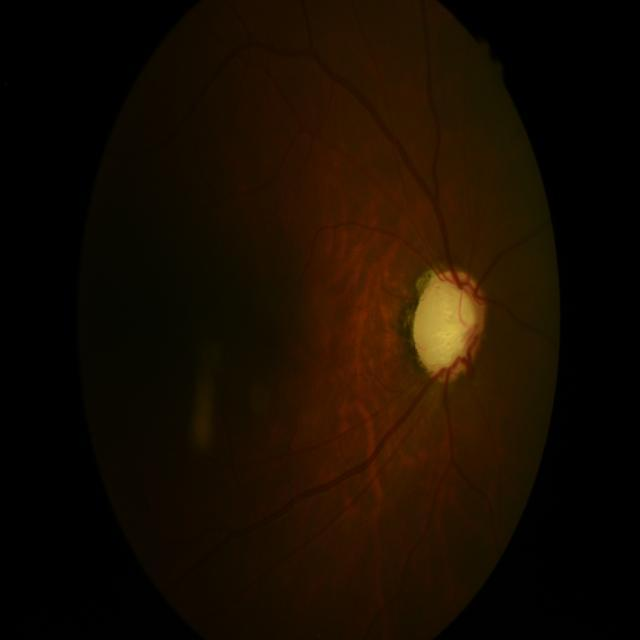cup: (416, 282, 478, 370)
disk: (412, 270, 486, 386)
